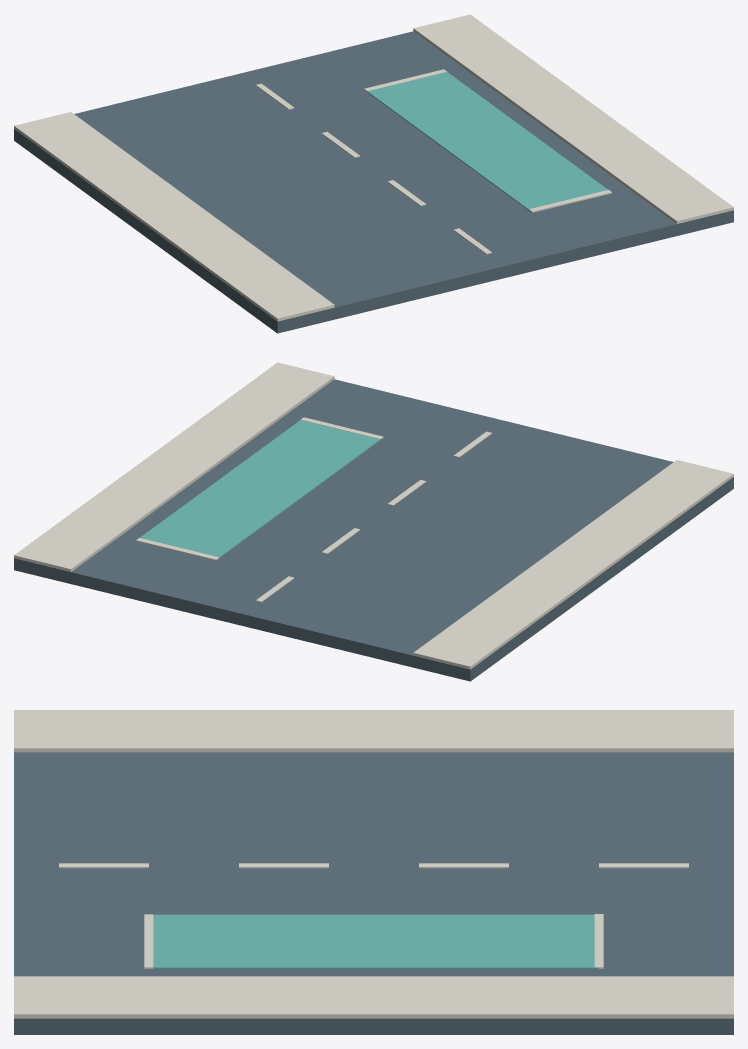
The model's file is voxel-city-districts-road-bus-stop-7bad5731__24818.glb.
3 views of the same model, one above another, from view 1: azimuth 30°, elevation 25°; view 2: azimuth 150°, elevation 25°; view 3: azimuth 270°, elevation 25° (orthographic). The views are drawn at different scales.
Parts seen in each view (by area): view 1: road-bus-stop-dark, road-bus-stop-concrete, road-bus-stop-accent; view 2: road-bus-stop-dark, road-bus-stop-concrete, road-bus-stop-accent; view 3: road-bus-stop-dark, road-bus-stop-concrete, road-bus-stop-accent.
Boxes of the visible parts, x1=… form: road-bus-stop-dark: x1=14, y1=31, x2=733, y2=333; road-bus-stop-concrete: x1=14, y1=14, x2=733, y2=321; road-bus-stop-accent: x1=367, y1=72, x2=607, y2=211; road-bus-stop-dark: x1=14, y1=379, x2=733, y2=681; road-bus-stop-concrete: x1=14, y1=362, x2=733, y2=669; road-bus-stop-accent: x1=140, y1=420, x2=382, y2=557; road-bus-stop-dark: x1=14, y1=752, x2=733, y2=1034; road-bus-stop-concrete: x1=14, y1=710, x2=733, y2=1018; road-bus-stop-accent: x1=153, y1=914, x2=598, y2=968.
Size of the model in its own units: 8 by 0.25 by 8.
